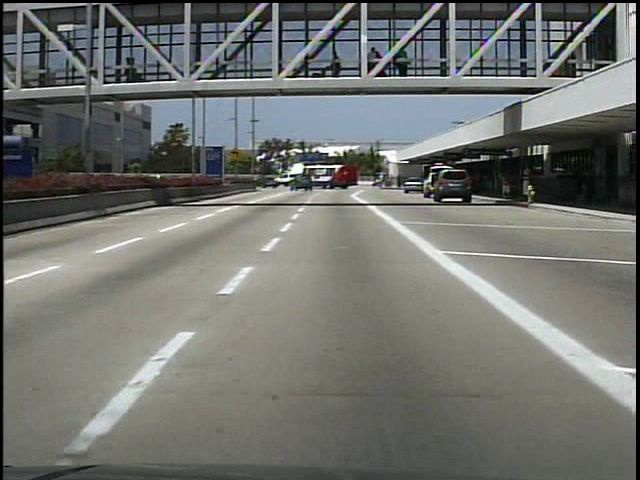person: (499, 165, 519, 201), (125, 54, 147, 86), (326, 48, 347, 80)
